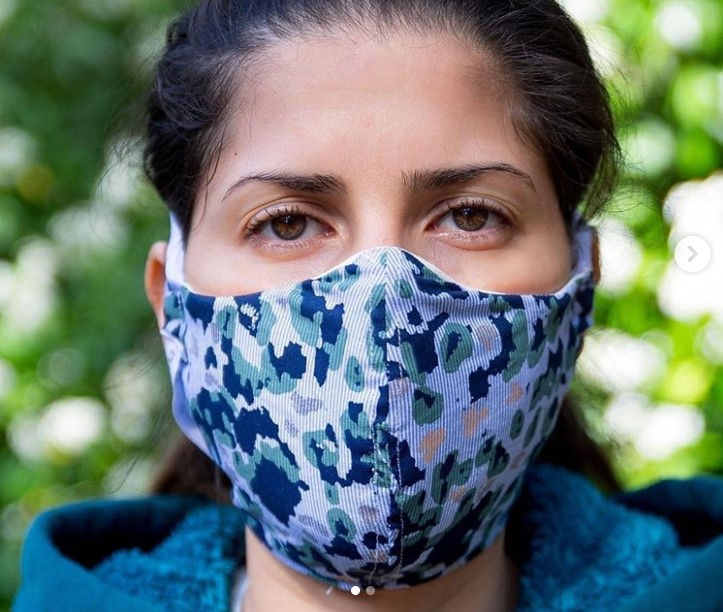face_with_mask: (144, 6, 604, 599)
